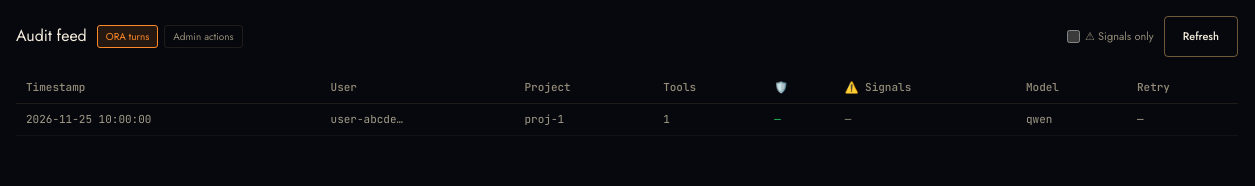
it: AdminAuditPage live polling (Part XV) › actions sub-tab polls its own endpoint and pauses the turns poll
The width and height of the screenshot is (1255, 186).
Check: the row with test id "admin-audit-row-t1" is shown, box [16, 104, 1238, 135]
Click the button with test id "admin-audit-subtab-actions" at point(203, 36), box [164, 25, 242, 48]
Wait 60000 ms
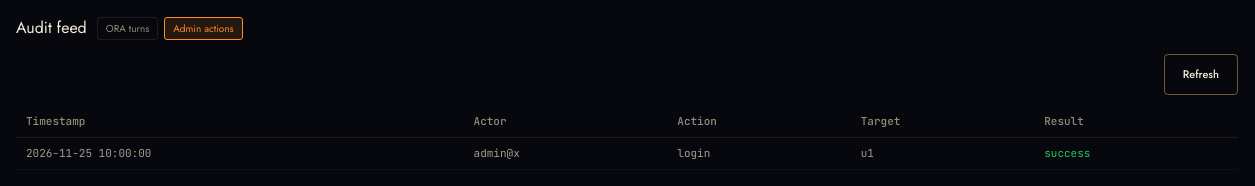
Check: the row with test id "admin-audit-actions-row-0" is shown, box [16, 138, 1238, 169]
Switching back reloads turns immediately and resumes its poll.
Click the button with test id "admin-audit-subtab-turns" at point(128, 28), box [97, 16, 158, 40]
Wait 30000 ms
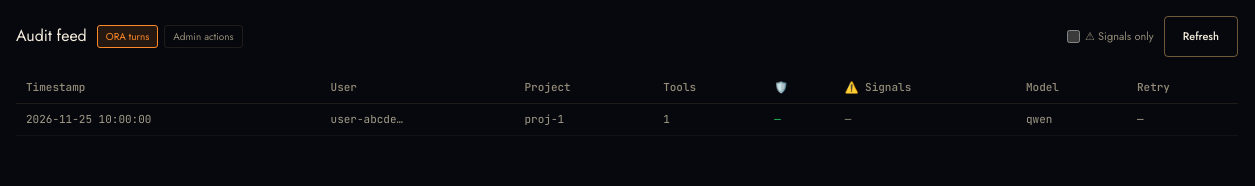
Check: the row with test id "admin-audit-row-t1" is shown, box [16, 104, 1238, 135]
